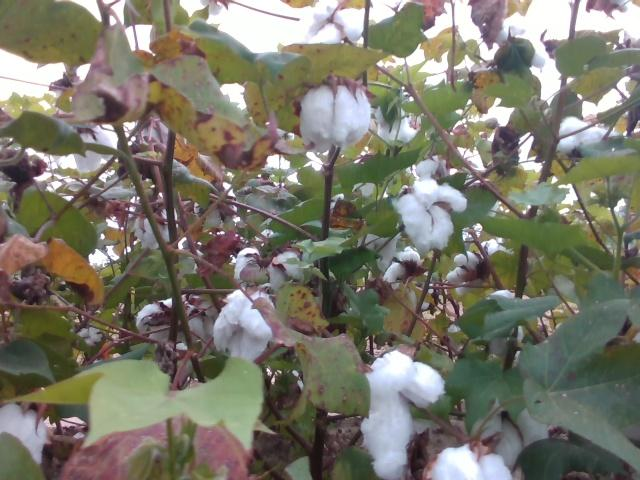cotton_ready: (363, 350, 445, 480), (395, 178, 468, 251), (474, 407, 555, 471), (299, 81, 371, 148), (211, 288, 275, 361), (480, 291, 534, 355), (137, 298, 205, 344), (0, 402, 48, 465), (447, 239, 499, 296), (299, 1, 361, 46), (431, 447, 512, 480), (558, 115, 617, 156), (132, 208, 182, 250), (497, 25, 547, 66), (75, 128, 115, 171), (379, 105, 418, 144), (195, 197, 236, 232), (267, 251, 302, 290), (384, 248, 420, 284), (234, 249, 262, 281), (416, 157, 449, 180)
